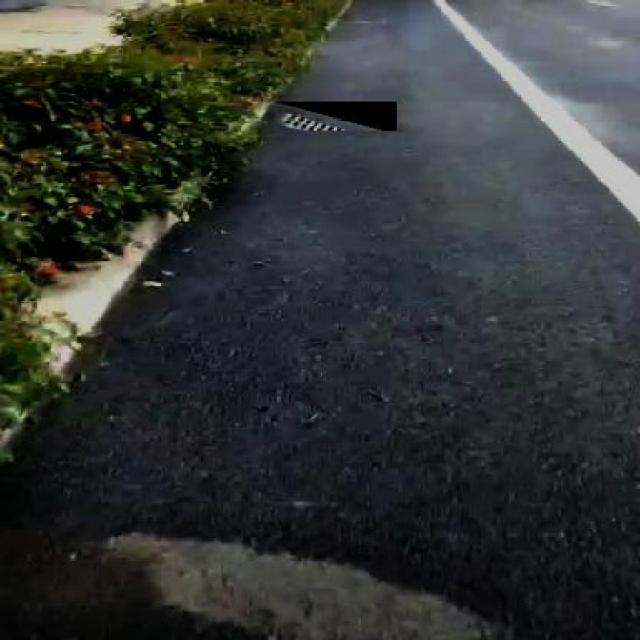Manhole: (274, 102, 397, 131)
